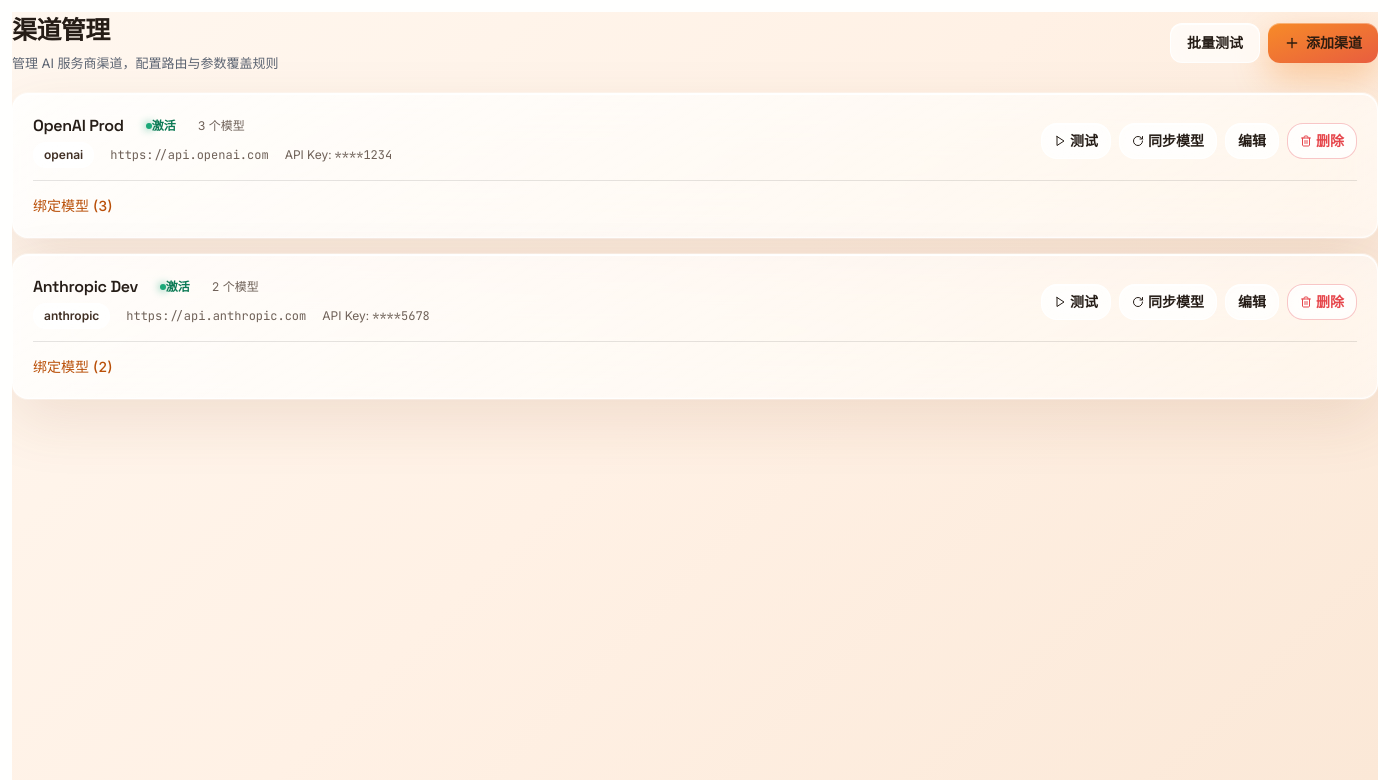
Channels › runs a real connectivity probe and reports model count
Click the button "测试" in the row of "****1234" at (1076, 141), box [1041, 123, 1111, 159]
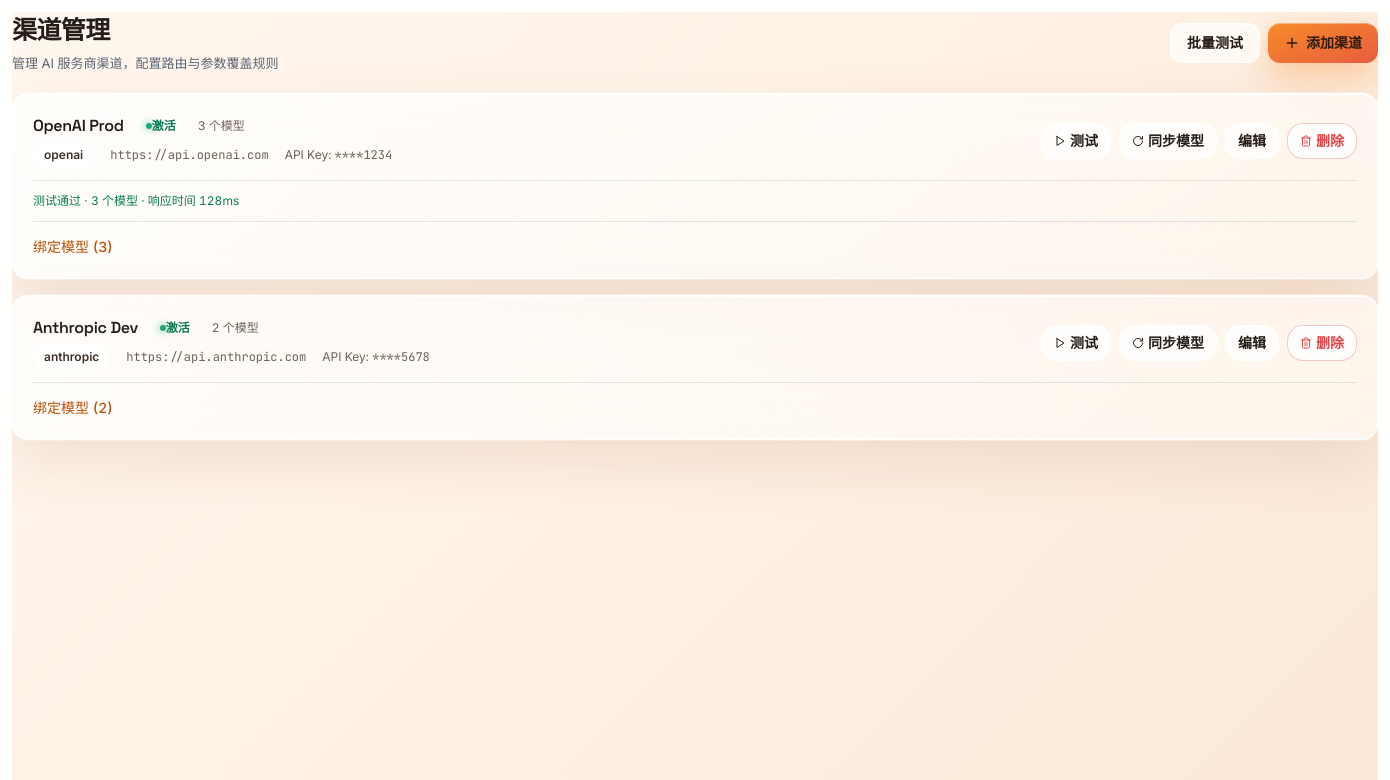
Check: the text "测试通过 · 3 个模型 · 响应时间 128ms" is shown, box [33, 180, 1357, 209]
